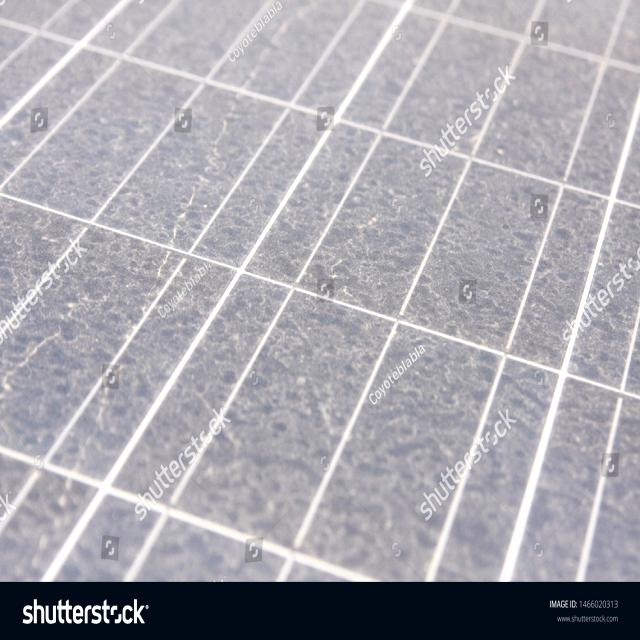dust: (388, 16, 628, 484), (45, 27, 175, 320), (0, 354, 160, 572), (222, 314, 370, 526), (211, 114, 335, 266)
